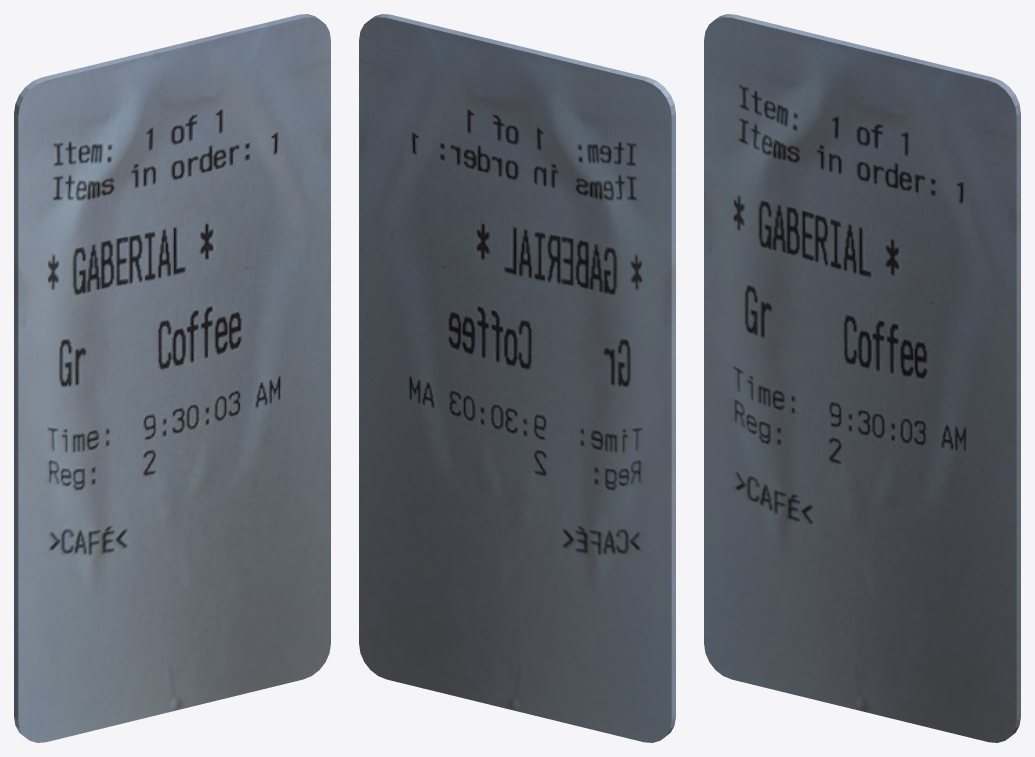
File: StarbucksLabelPrinter.fbx
3 views of the same model, side by side, from view 1: azimuth 30°, elevation 25°; view 2: azimuth 150°, elevation 25°; view 3: azimuth 330°, elevation 25° (orthographic).
Parts seen in each view (by area): view 1: Cube; view 2: Cube; view 3: Cube.
Part boxes in pixels (x1,y1,x2,y2): Cube: (14,14,330,742); Cube: (359,14,675,742); Cube: (704,14,1020,742).
Bounding box in the file's own units: 0.0452 × 0.0914 × 0.00108.
